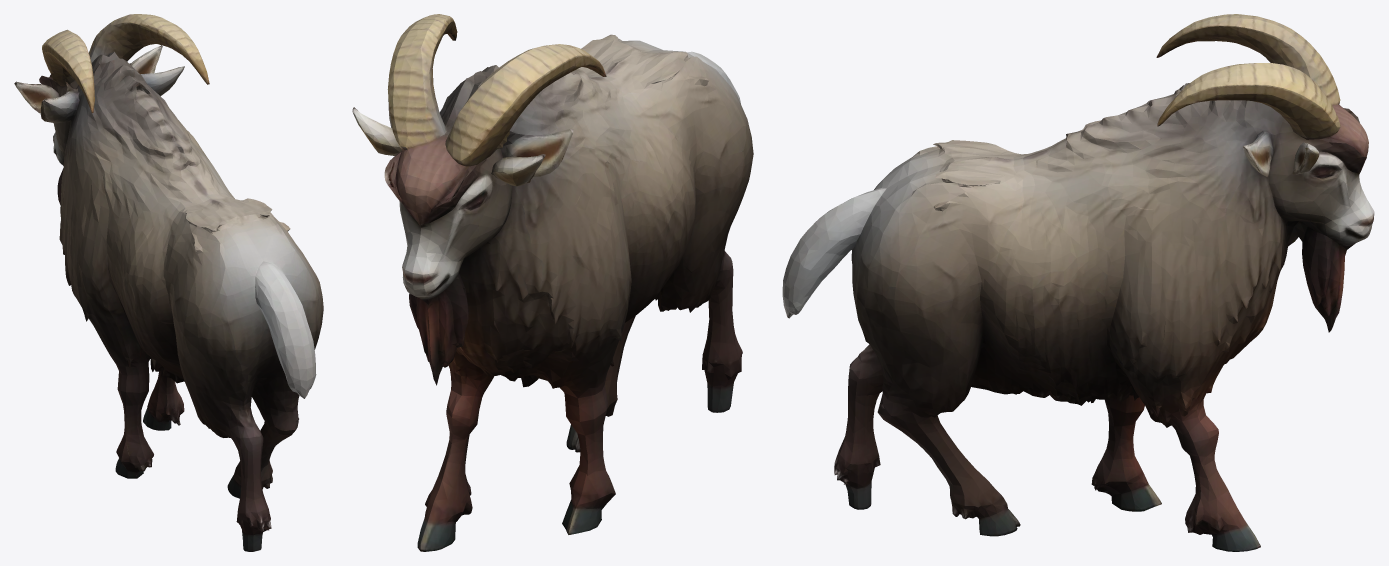
Rendered from himalayan_tahr.glb.
The picture shows the model from 3 angles, left to right: view 1: azimuth 30°, elevation 25°; view 2: azimuth 150°, elevation 25°; view 3: azimuth 270°, elevation 25°; orthographic projection. The views are drawn at different scales.
Visible parts, largest first — view 1: geometry_0; view 2: geometry_0; view 3: geometry_0.
Boxes of the visible parts, <box> form: geometry_0: <box>14,14,323,551</box>; geometry_0: <box>352,14,753,551</box>; geometry_0: <box>782,14,1374,551</box>.
Bounding box in the file's own units: 0.3468 × 0.9002 × 1.
Materials: 1 (1 with a texture image).
